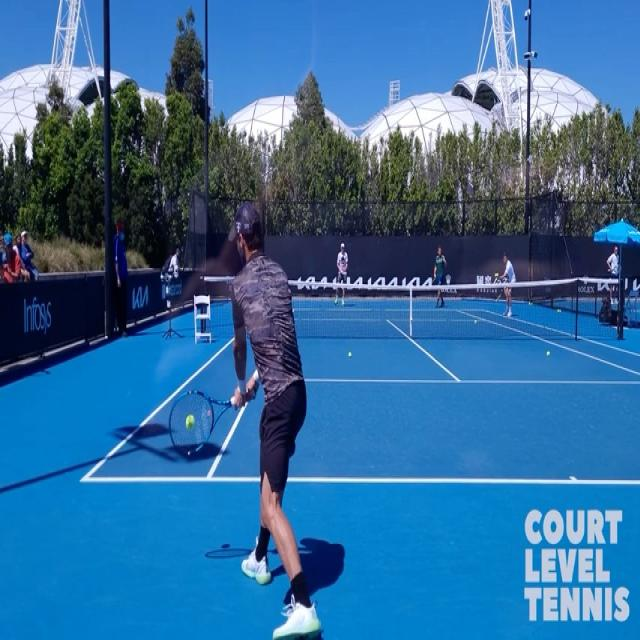backhand-stroke: (167, 208, 326, 634)
